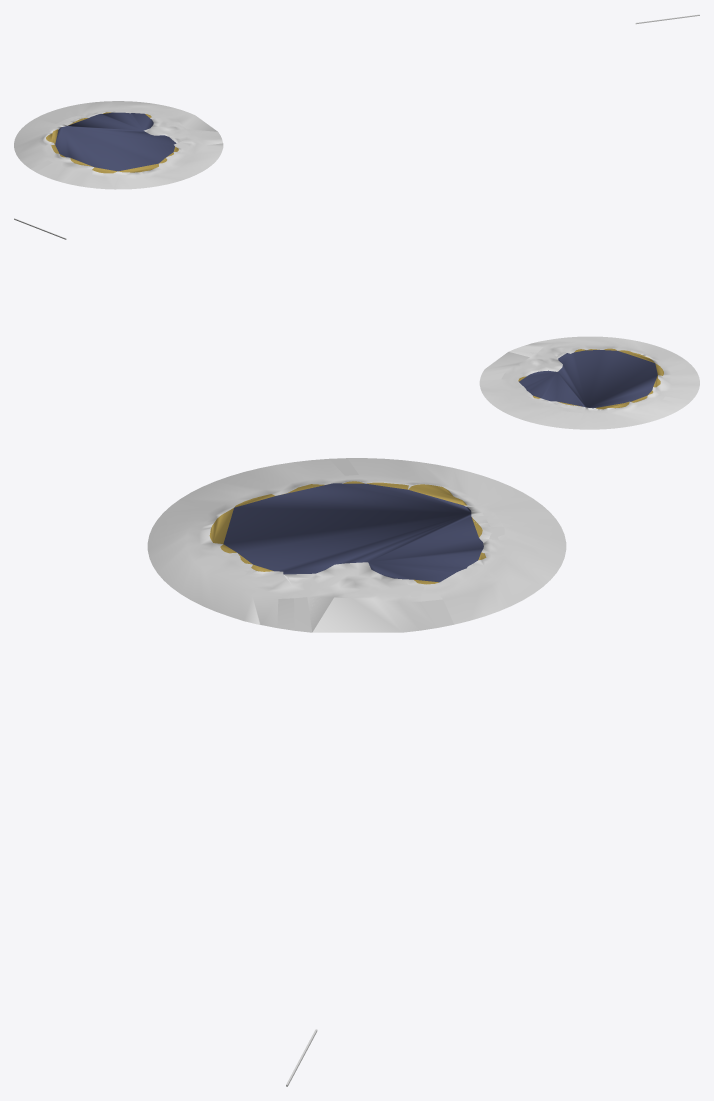
The model's file is boat_sand9.fbx.
3 views of the same model, one above another, from view 1: azimuth 30°, elevation 25°; view 2: azimuth 150°, elevation 25°; view 3: azimuth 270°, elevation 25° (orthographic). The views are drawn at different scales.
Parts seen in each view (by area): view 1: Object_7.004; view 2: Object_7.004; view 3: Object_7.004.
Part boxes in pixels (x1,y1,x2,y2): Object_7.004: (14, 101, 223, 189); Object_7.004: (479, 336, 699, 429); Object_7.004: (147, 458, 566, 632).
Size of the model in its own units: 8516 by 83.03 by 2359.
